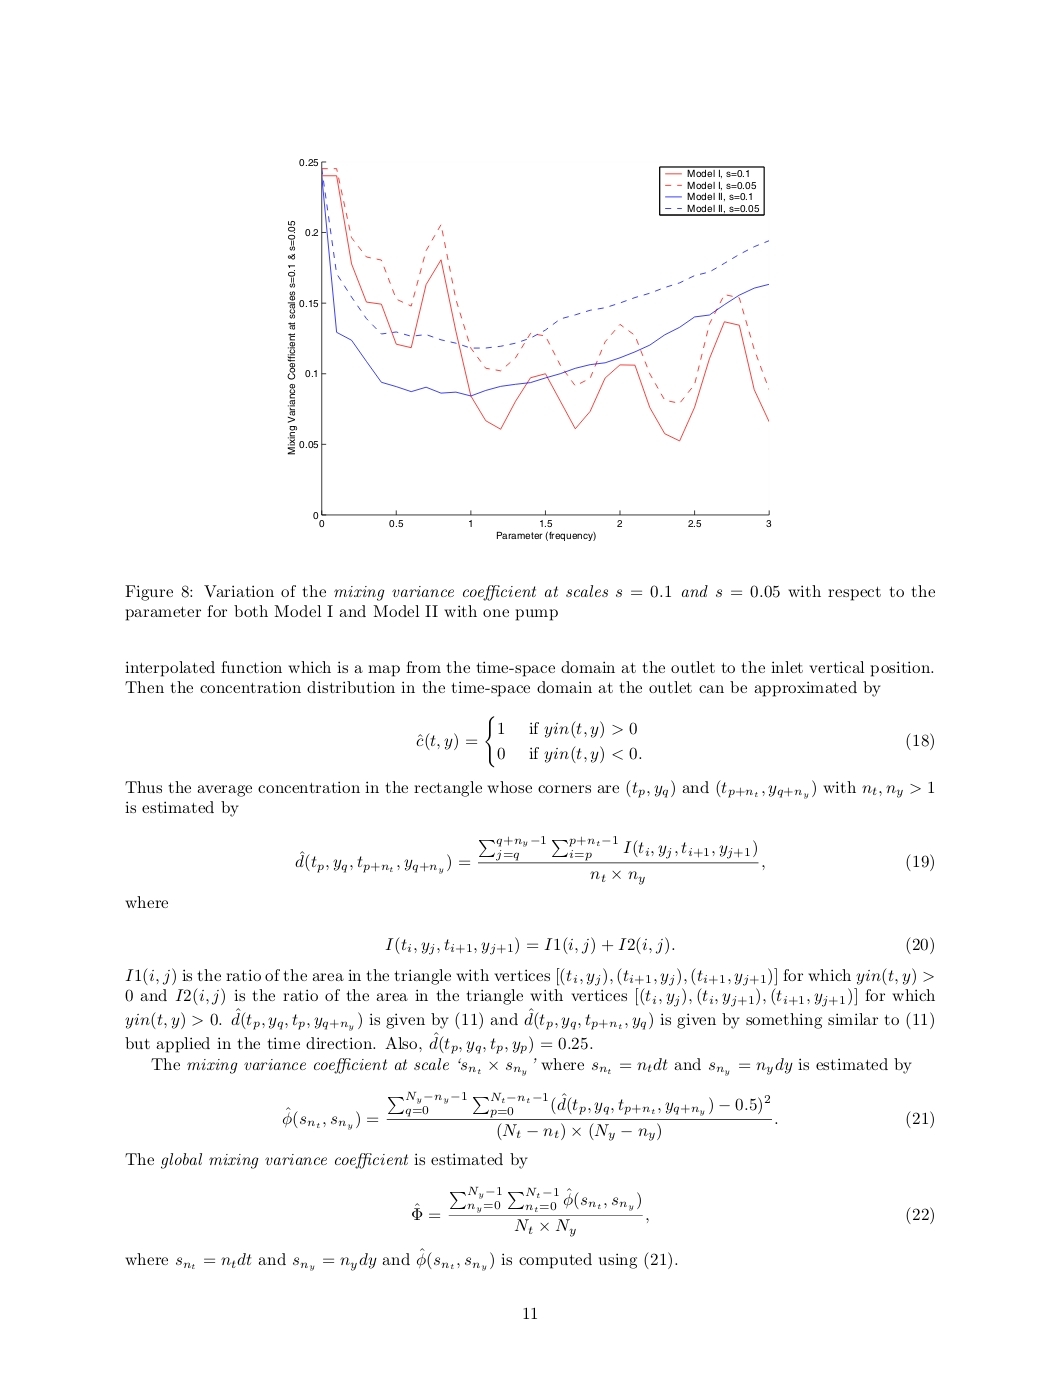figure: (288, 159, 771, 541)
formula: (282, 1090, 933, 1141), (295, 835, 933, 885), (412, 1185, 933, 1237), (416, 715, 933, 768), (385, 936, 933, 955)
